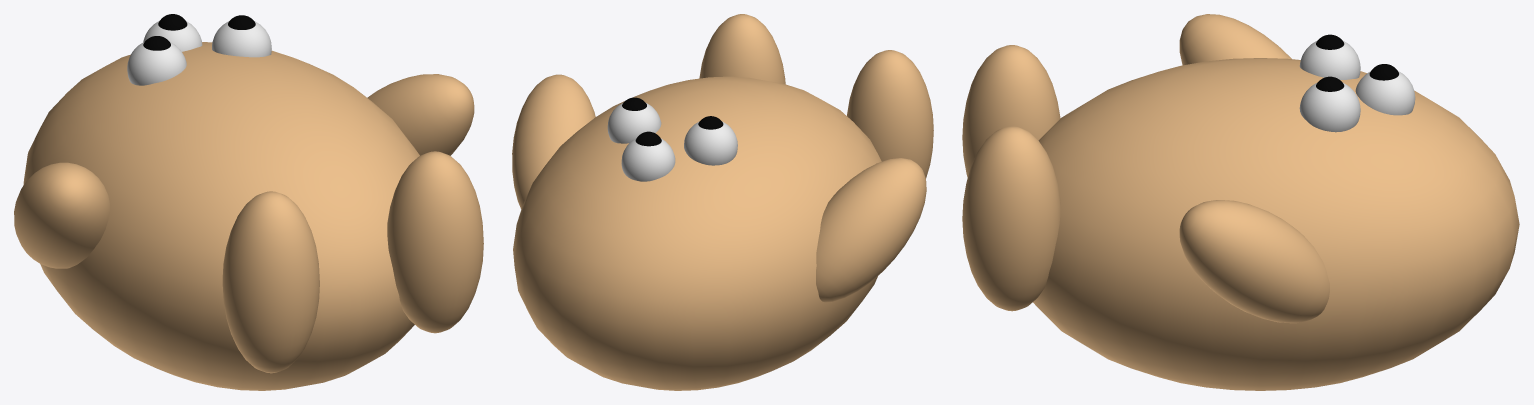
The model's file is character.fbx.
The picture shows the model from 3 angles, left to right: view 1: azimuth 30°, elevation 25°; view 2: azimuth 150°, elevation 25°; view 3: azimuth 270°, elevation 25°; orthographic projection. The views are drawn at different scales.
Parts seen in each view (by area): view 1: Body, LeftFoot, RightFoot, LeftArm, RightArm, LeftEye, RightEye, MiddleEye; view 2: Body, LeftArm, LeftFoot, RightArm, RightFoot, LeftEye, MiddleEye, RightEye; view 3: Body, RightFoot, RightArm, LeftFoot, LeftArm, RightEye, MiddleEye, LeftEye.
Part boxes in pixels (x1,y1,x2,y2): Body: [23, 42, 419, 390]; LeftFoot: [222, 191, 319, 373]; RightFoot: [387, 151, 483, 333]; LeftArm: [14, 162, 109, 268]; RightArm: [367, 74, 474, 155]; LeftEye: [127, 42, 186, 85]; RightEye: [212, 21, 271, 57]; MiddleEye: [143, 21, 202, 51]; Body: [513, 76, 881, 390]; LeftArm: [816, 158, 926, 302]; LeftFoot: [847, 50, 933, 178]; RightArm: [512, 74, 595, 208]; RightFoot: [699, 14, 785, 84]; LeftEye: [684, 121, 737, 165]; MiddleEye: [621, 138, 675, 181]; RightEye: [607, 103, 661, 143]; Body: [1033, 58, 1519, 390]; RightFoot: [962, 126, 1060, 311]; RightArm: [1179, 200, 1329, 323]; LeftFoot: [962, 45, 1060, 177]; LeftArm: [1179, 14, 1291, 65]; RightEye: [1299, 83, 1360, 132]; MiddleEye: [1355, 71, 1415, 115]; LeftEye: [1299, 41, 1360, 79].
Bounding box in the file's own units: 516 × 346 × 561.
